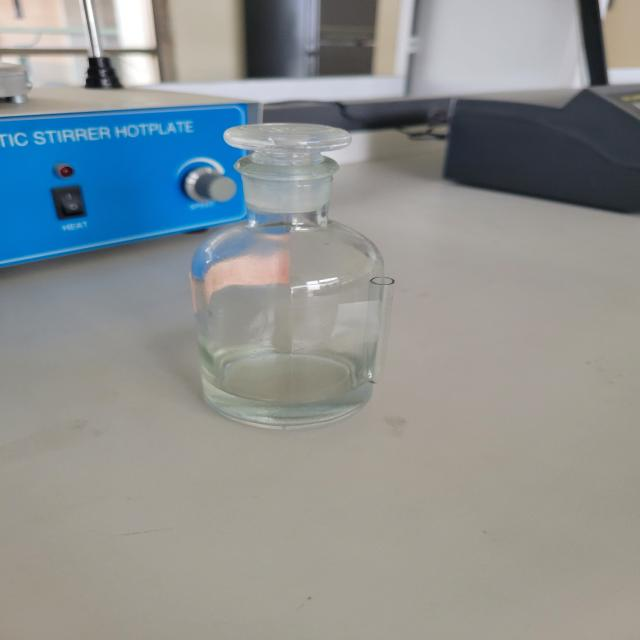Reagent_Bottle: (132, 98, 426, 458)
